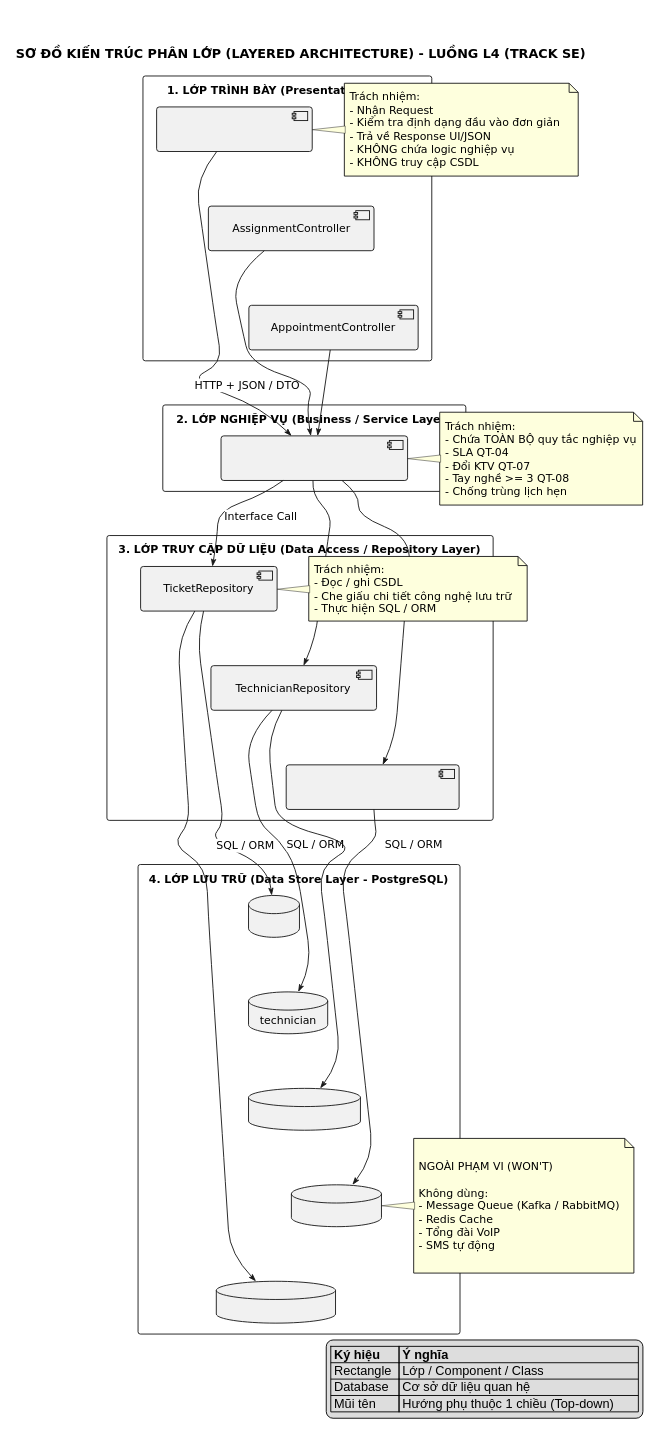
This 659x1434 diagram has some shape labels left out. Each missing label, with the centre of its shape:
appointment: (x=335, y=1205)
AppointmentRepository: (x=372, y=786)
technician_skill: (x=304, y=1108)
ticket: (x=273, y=916)
ticket_status_log: (x=275, y=1301)
TicketAssignmentService: (x=314, y=457)
TicketListController: (x=234, y=129)
